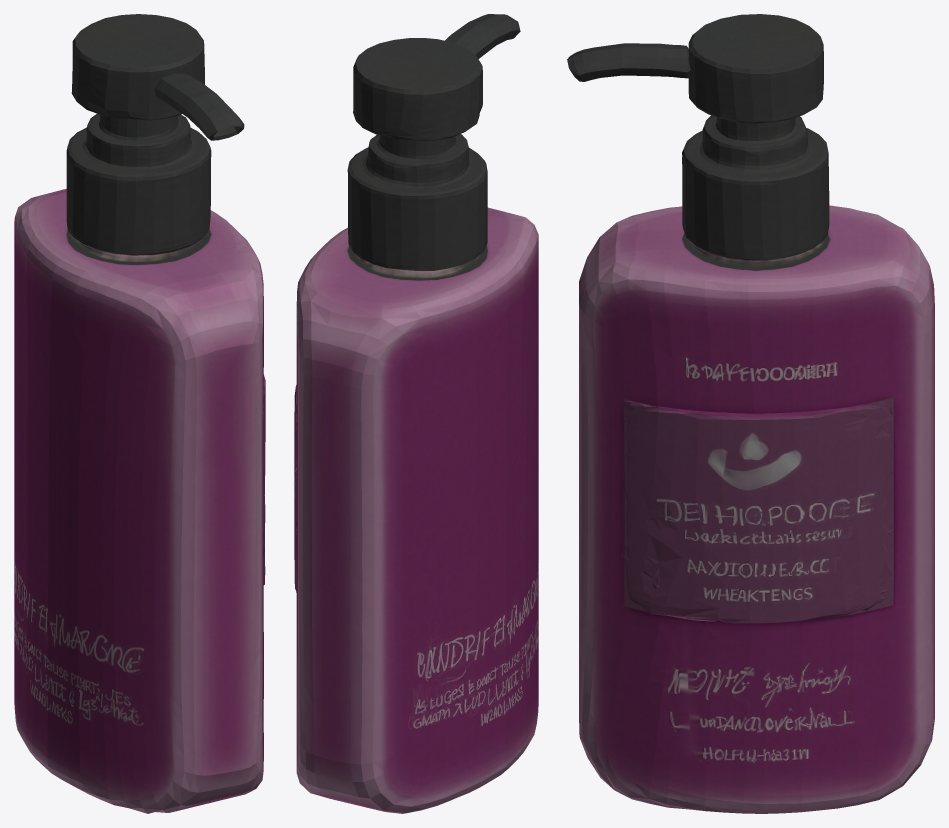
Rendered from shampoo.glb.
The picture shows the model from 3 angles, left to right: view 1: azimuth 30°, elevation 25°; view 2: azimuth 150°, elevation 25°; view 3: azimuth 270°, elevation 25°; orthographic projection. The views are drawn at different scales.
Visible parts, largest first — view 1: tripo_node_a63de6c6-f47c-4a56-842f-8cab2a19a98d; view 2: tripo_node_a63de6c6-f47c-4a56-842f-8cab2a19a98d; view 3: tripo_node_a63de6c6-f47c-4a56-842f-8cab2a19a98d.
Boxes of the visible parts, x1,y1,x2,y2 form: tripo_node_a63de6c6-f47c-4a56-842f-8cab2a19a98d: (14, 14, 265, 813); tripo_node_a63de6c6-f47c-4a56-842f-8cab2a19a98d: (294, 14, 538, 813); tripo_node_a63de6c6-f47c-4a56-842f-8cab2a19a98d: (567, 14, 934, 813).
Bounding box in the file's own units: 0.2743 × 0.9982 × 0.4541.
Materials: 1 (1 with a texture image).
